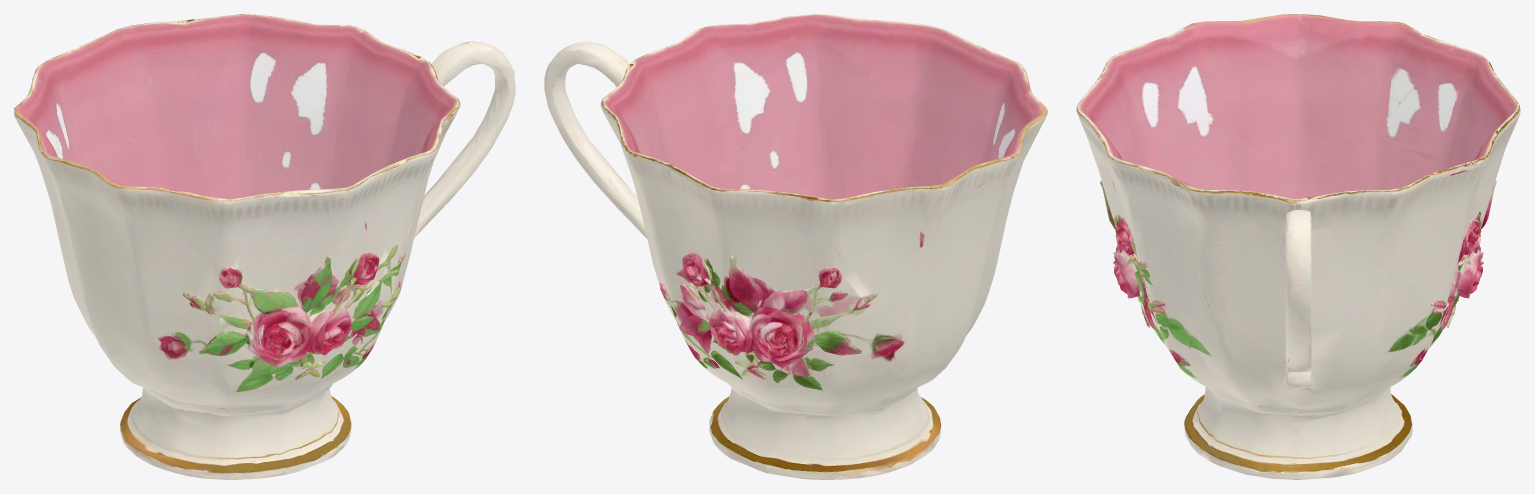
The model's file is kitchen-teacup-03.glb.
3 views of the same model, side by side, from view 1: azimuth 30°, elevation 25°; view 2: azimuth 150°, elevation 25°; view 3: azimuth 270°, elevation 25° (orthographic).
Bounding box in the file's own units: 1.9 × 1.28 × 1.56.
Materials: 1 (1 with a texture image).
